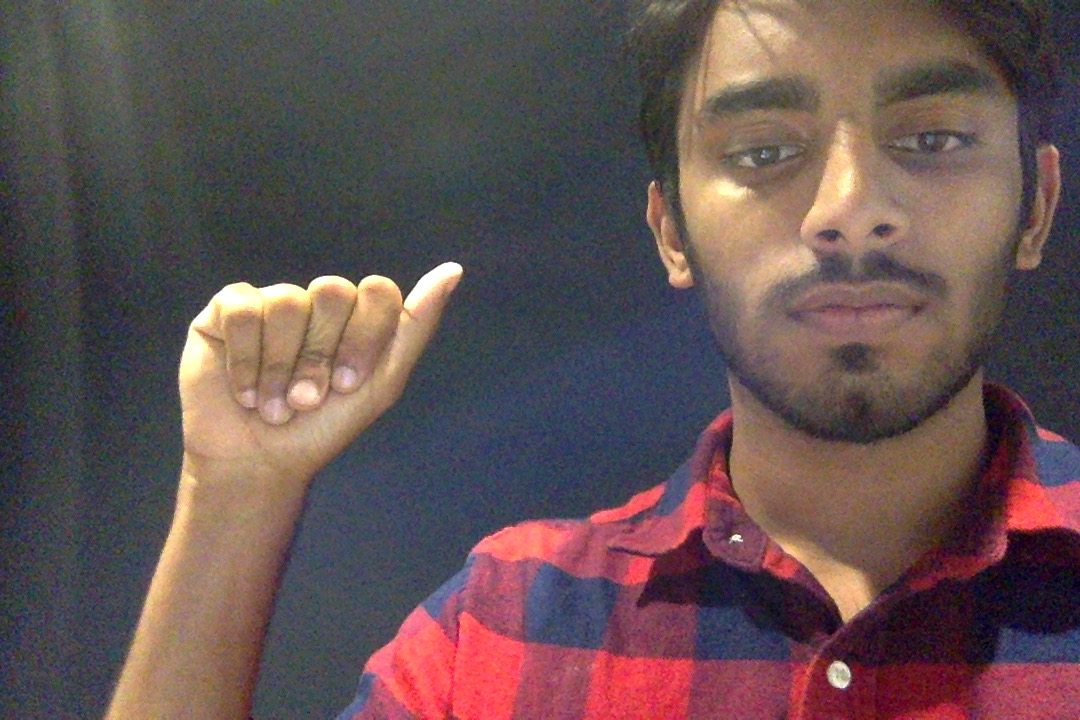a: (166, 257, 471, 498)
